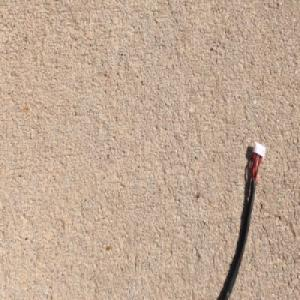Wire: (215, 139, 267, 300)
